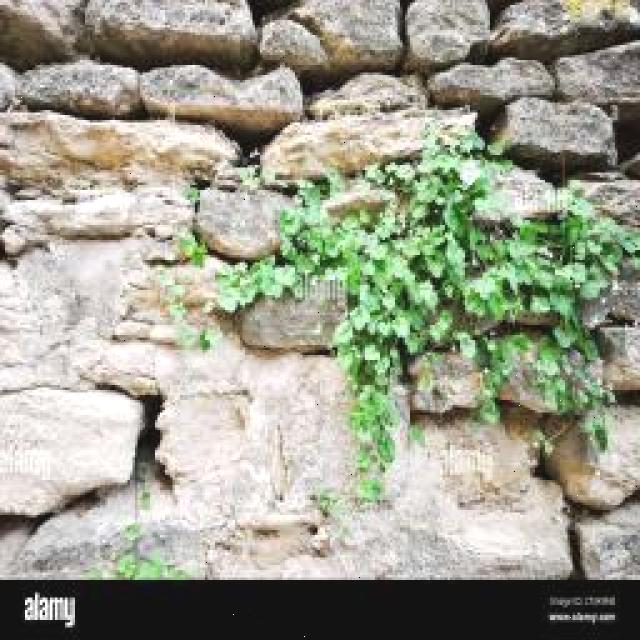crack: (0, 242, 120, 393), (282, 10, 322, 38)
dampens: (1, 219, 213, 550), (2, 109, 237, 259)
vegetation: (189, 114, 638, 504), (379, 144, 502, 289), (82, 0, 259, 71), (136, 62, 305, 135), (264, 0, 410, 82), (143, 243, 247, 355), (489, 96, 616, 173), (491, 0, 640, 62), (274, 179, 368, 269), (11, 59, 148, 120), (428, 58, 556, 112), (210, 516, 331, 573), (402, 0, 495, 73), (553, 38, 640, 109), (465, 167, 567, 227), (2, 1, 87, 71), (308, 71, 428, 119), (406, 138, 489, 204), (567, 172, 640, 229), (316, 183, 401, 228), (2, 197, 69, 250)
